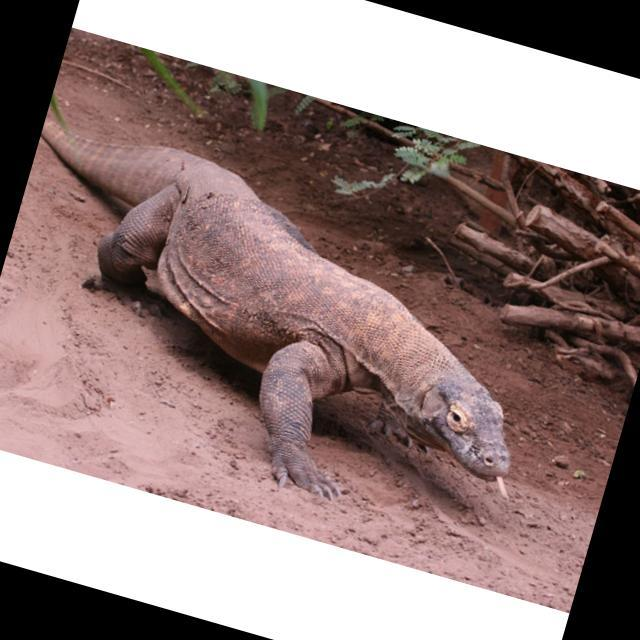KomodoDragon: (0, 107, 578, 548)
